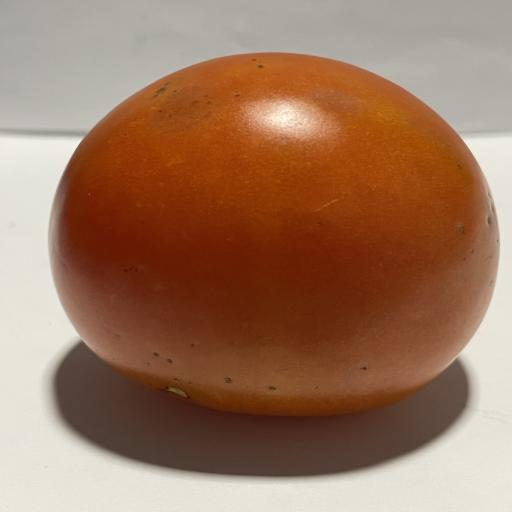unripe: (50, 53, 500, 416)
